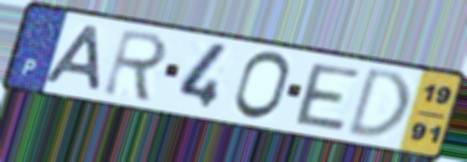4: (174, 39, 227, 115)
A: (41, 22, 104, 94)
D: (343, 65, 412, 141)
E: (293, 60, 364, 133)
O: (230, 49, 293, 123)
R: (99, 26, 172, 106)
